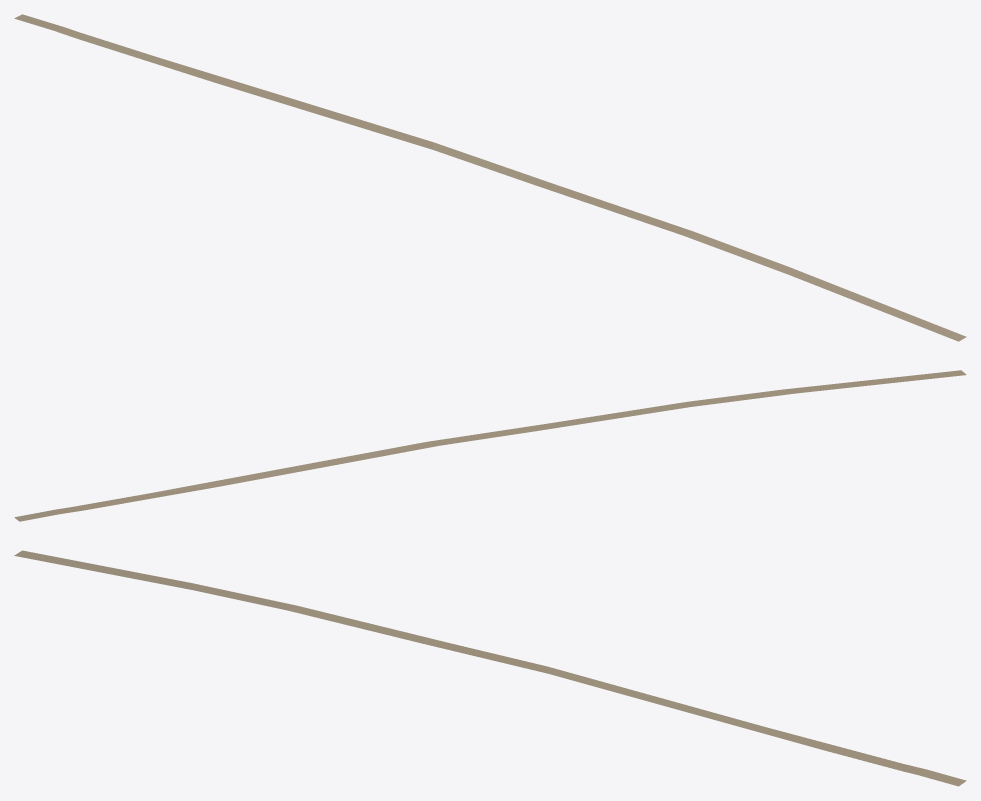
The model's file is farm_-20_-23_track.glb.
3 views of the same model, one above another, from view 1: azimuth 90°, elevation 25°; view 2: azimuth 150°, elevation 25°; view 3: azimuth 270°, elevation 25° (orthographic). The views are drawn at different scales.
Parts seen in each view (by area): view 1: geometry_0; view 2: geometry_0; view 3: geometry_0.
Part boxes in pixels (box(x1,y1,x2,y2)): geometry_0: box(14, 14, 966, 341); geometry_0: box(14, 370, 966, 521); geometry_0: box(14, 550, 966, 786).
Bounding box in the file's own units: 150 × 11.61 × 215.
